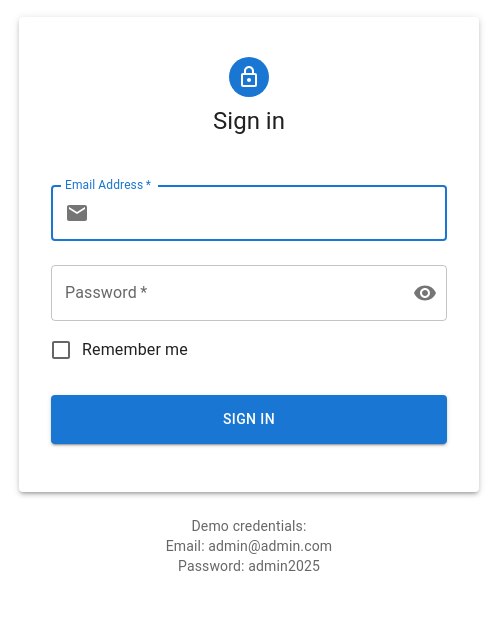
Test: Login Component › should validate required fields
Click the button "Sign In" at [249, 419], box [51,395,447,444]
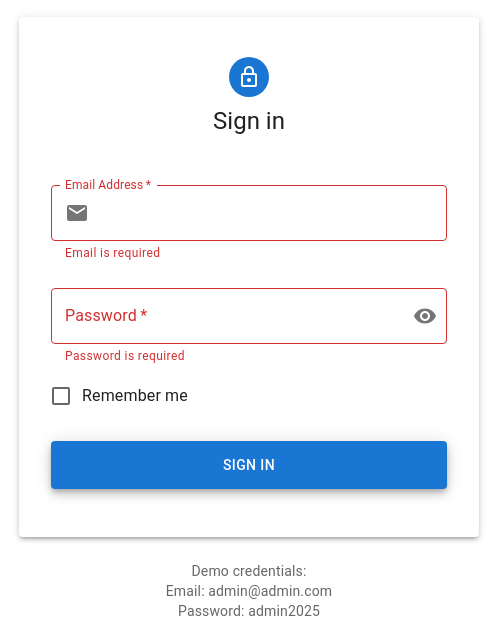
Expected: the text "Email is required" is shown, [65,246,160,260]
Expected: the text "Password is required" is shown, [65,349,185,363]
